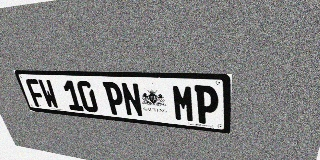0: (75, 81, 99, 113)
1: (61, 80, 84, 111)
F: (25, 79, 47, 108)
M: (171, 84, 195, 123)
N: (120, 82, 144, 117)
P: (194, 85, 218, 125), (102, 82, 126, 116)
W: (37, 79, 60, 109)
